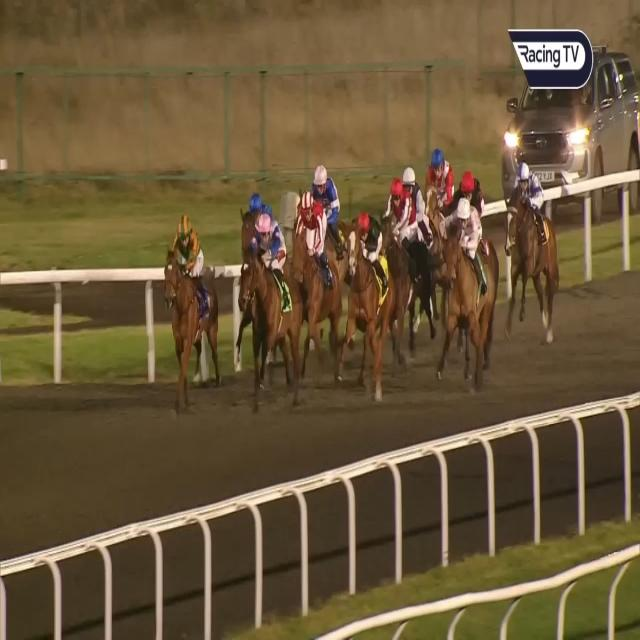horses-racing: (153, 213, 224, 391), (380, 168, 436, 358), (439, 202, 492, 371), (244, 202, 294, 377), (292, 180, 336, 364), (508, 163, 556, 330), (347, 218, 387, 362), (310, 144, 346, 250), (414, 147, 451, 218), (244, 181, 270, 258), (402, 154, 428, 227), (457, 170, 482, 224)
